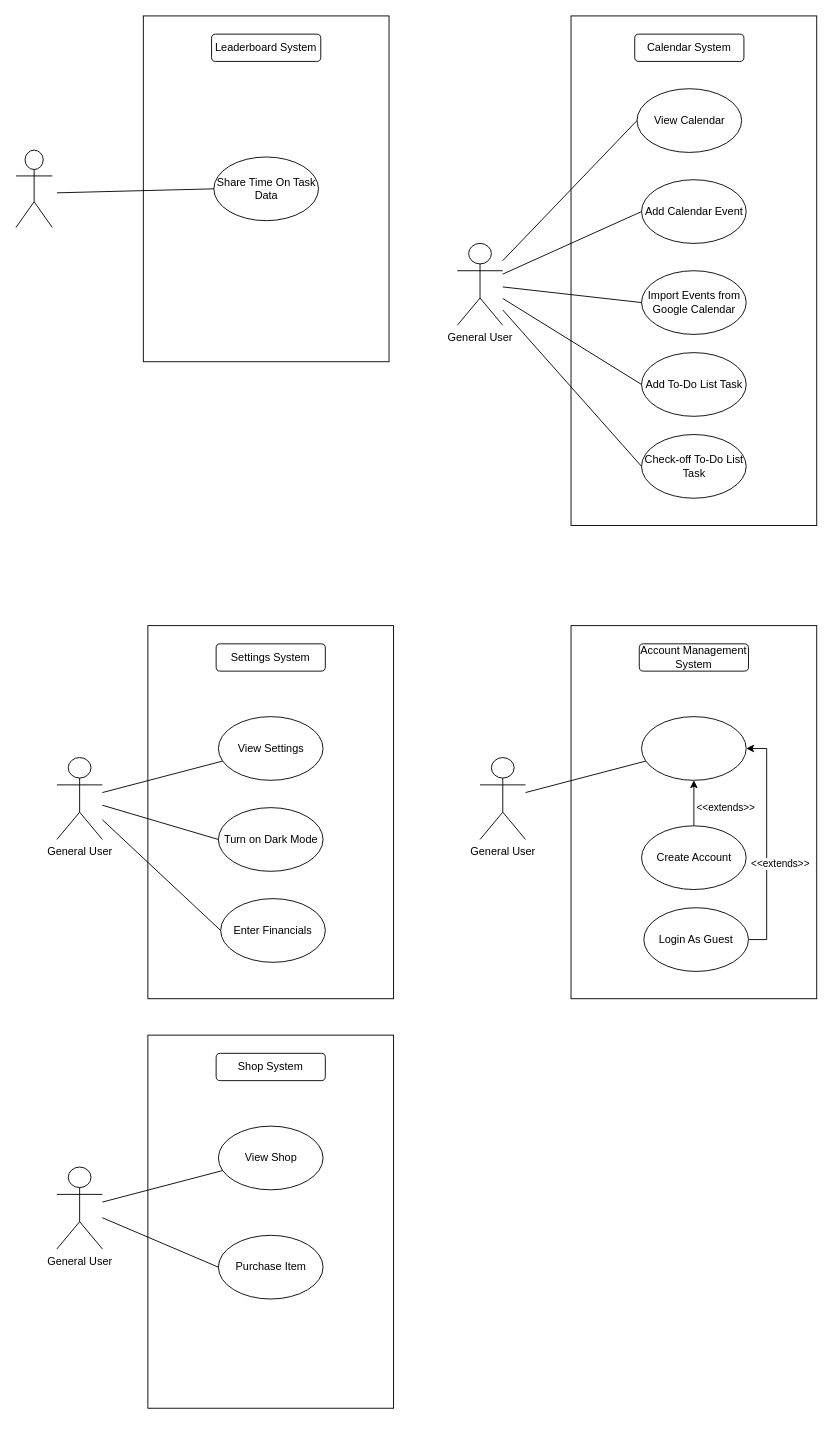
The diagram is 833 pixels wide and 1431 high, and some of its shapes have lost their labels. The box of each missing label's shape, as (x1, y1, x2, y2) in pixels:
Login: (641, 716, 746, 780)
Student: (15, 149, 52, 228)
